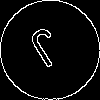J: (25, 25, 72, 78)
